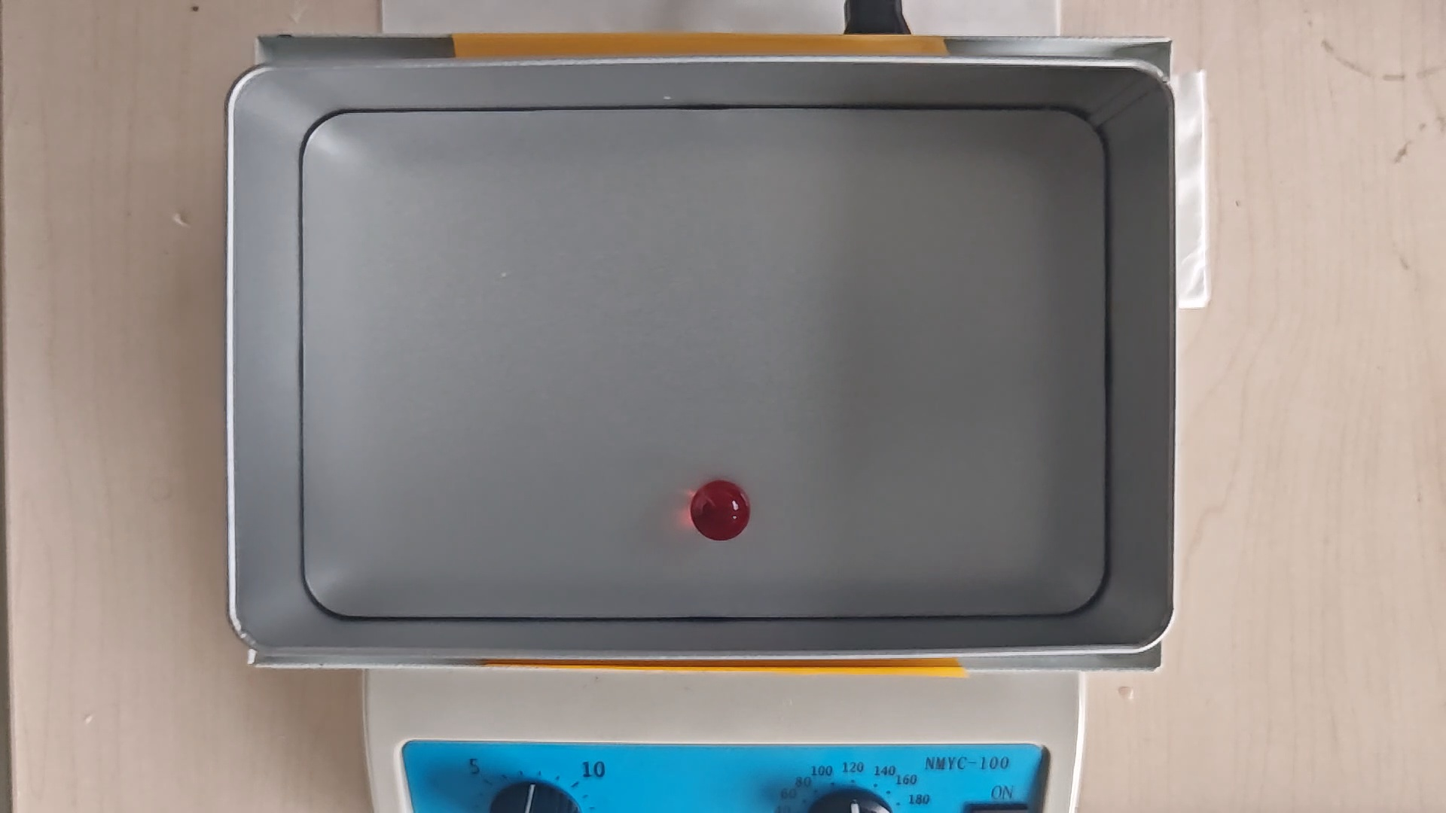ball: (690, 480, 751, 542)
container: (301, 109, 1108, 618)
